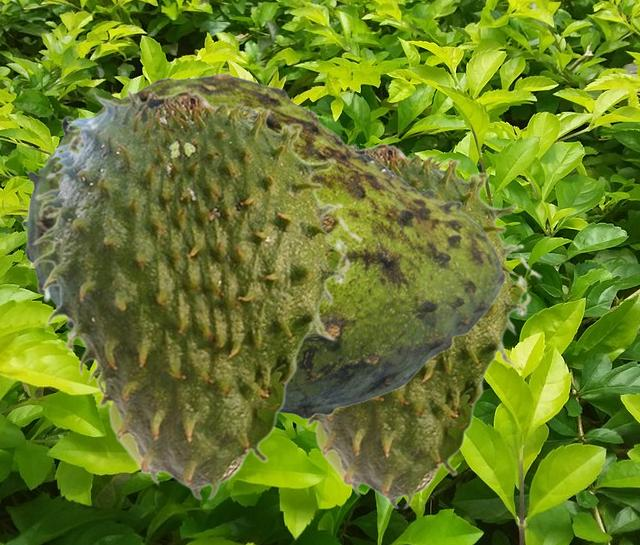guyabano: (21, 72, 505, 419), (28, 88, 363, 500), (304, 141, 542, 509)
